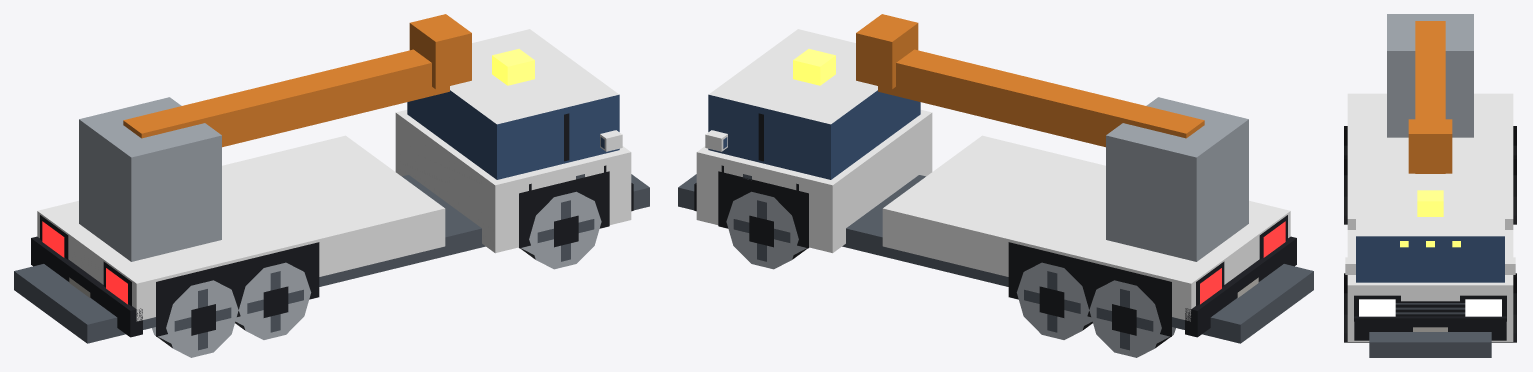
File: truck_utility.glb
The picture shows the model from 3 angles, left to right: view 1: azimuth 30°, elevation 25°; view 2: azimuth 150°, elevation 25°; view 3: azimuth 270°, elevation 25°; orthographic projection. The views are drawn at different scales.
Parts seen in each view (by area): view 1: truck_utility; view 2: truck_utility; view 3: truck_utility.
Part boxes in pixels (left/top/right/bottom): truck_utility: left=14, top=14, right=649, bottom=357; truck_utility: left=678, top=14, right=1313, bottom=357; truck_utility: left=1344, top=14, right=1516, bottom=357.
Size of the model in its own units: 0.62 by 0.23 by 0.2024.
